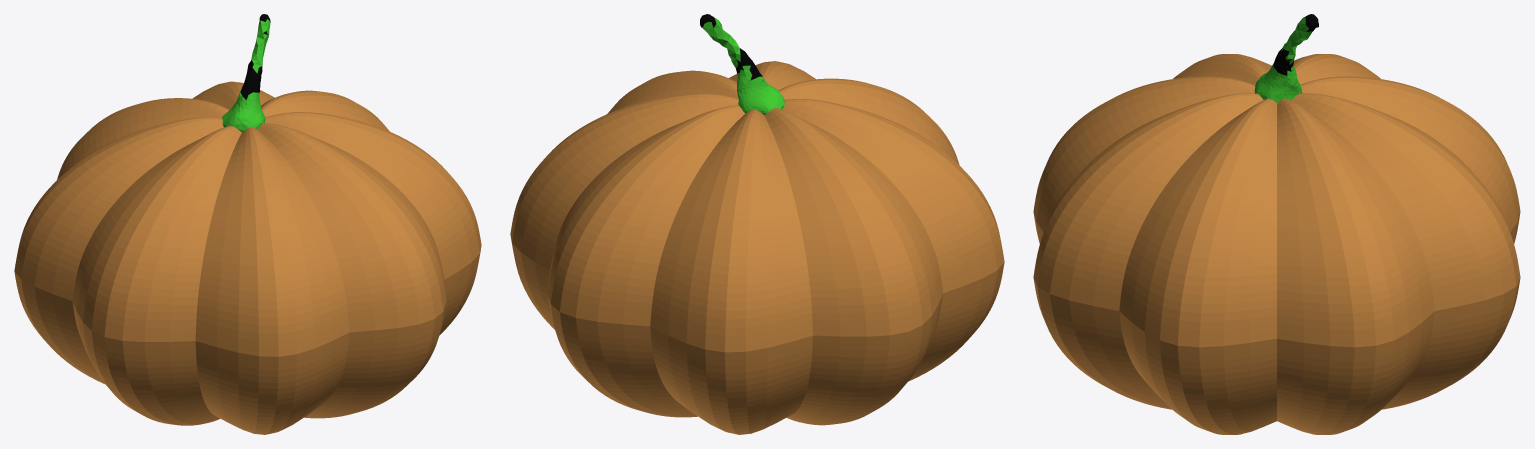
Rendered from animated_pumpkin.fbx.
3 renders of one model, left to right at view 1: azimuth 30°, elevation 25°; view 2: azimuth 150°, elevation 25°; view 3: azimuth 270°, elevation 25°, orthographic. The views are drawn at different scales.
Parts seen in each view (by area): view 1: Slice top, Slice bottom, cherenok; view 2: Slice top, Slice bottom, cherenok; view 3: Slice top, Slice bottom, cherenok.
Boxes of the visible parts, bbox=[...] form: Slice top: bbox=[14, 81, 481, 356]; Slice bottom: bbox=[14, 249, 480, 434]; cherenok: bbox=[222, 14, 270, 131]; Slice top: bbox=[510, 61, 1004, 352]; Slice bottom: bbox=[511, 238, 1004, 434]; cherenok: bbox=[700, 14, 784, 114]; Slice top: bbox=[1033, 54, 1520, 347]; Slice bottom: bbox=[1033, 213, 1520, 434]; cherenok: bbox=[1254, 14, 1318, 102].
Bounding box in the file's own units: 261 × 239 × 261.
